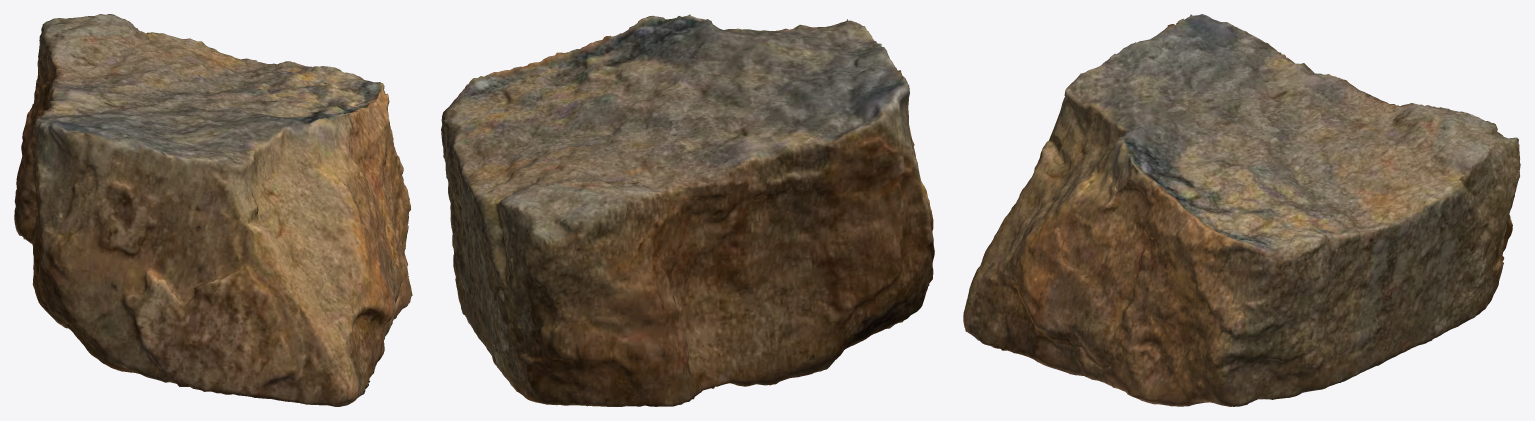
File: boulder_medium_b_low.glb
3 views of the same model, side by side, from view 1: azimuth 30°, elevation 25°; view 2: azimuth 150°, elevation 25°; view 3: azimuth 270°, elevation 25° (orthographic). The views are drawn at different scales.
Visible parts, largest first — view 1: boulder_03_LOD0; view 2: boulder_03_LOD0; view 3: boulder_03_LOD0.
Part boxes in pixels (bbox=[...]): boulder_03_LOD0: bbox=[14, 14, 412, 406]; boulder_03_LOD0: bbox=[441, 14, 934, 406]; boulder_03_LOD0: bbox=[963, 14, 1520, 406].
Size of the model in its own units: 2.41 by 1.47 by 3.07.
Materials: 1 (1 with a texture image).
